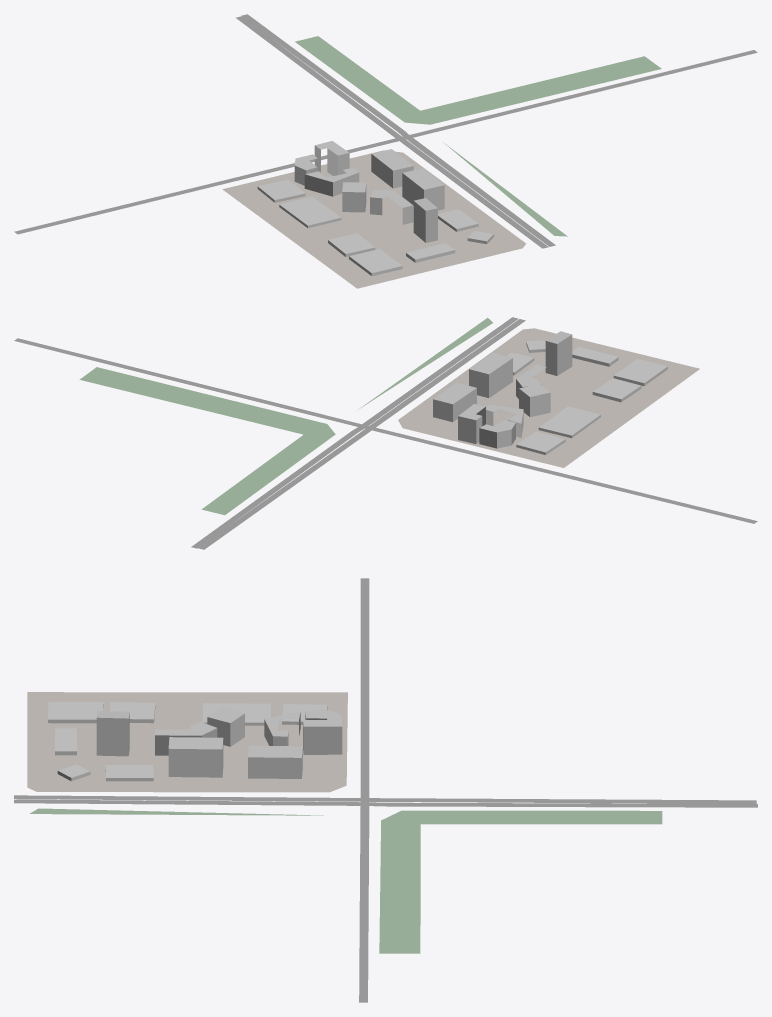
3 views of the same model, one above another, from view 1: azimuth 30°, elevation 25°; view 2: azimuth 150°, elevation 25°; view 3: azimuth 270°, elevation 25° (orthographic). The views are drawn at different scales.
Size of the model in its own units: 795 by 33.53 by 586.
